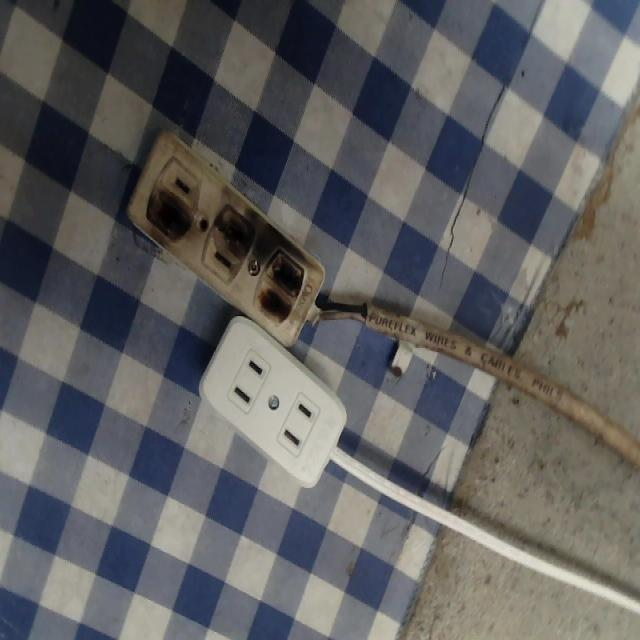-: (261, 249, 319, 328), (139, 183, 195, 241), (217, 190, 261, 262)
